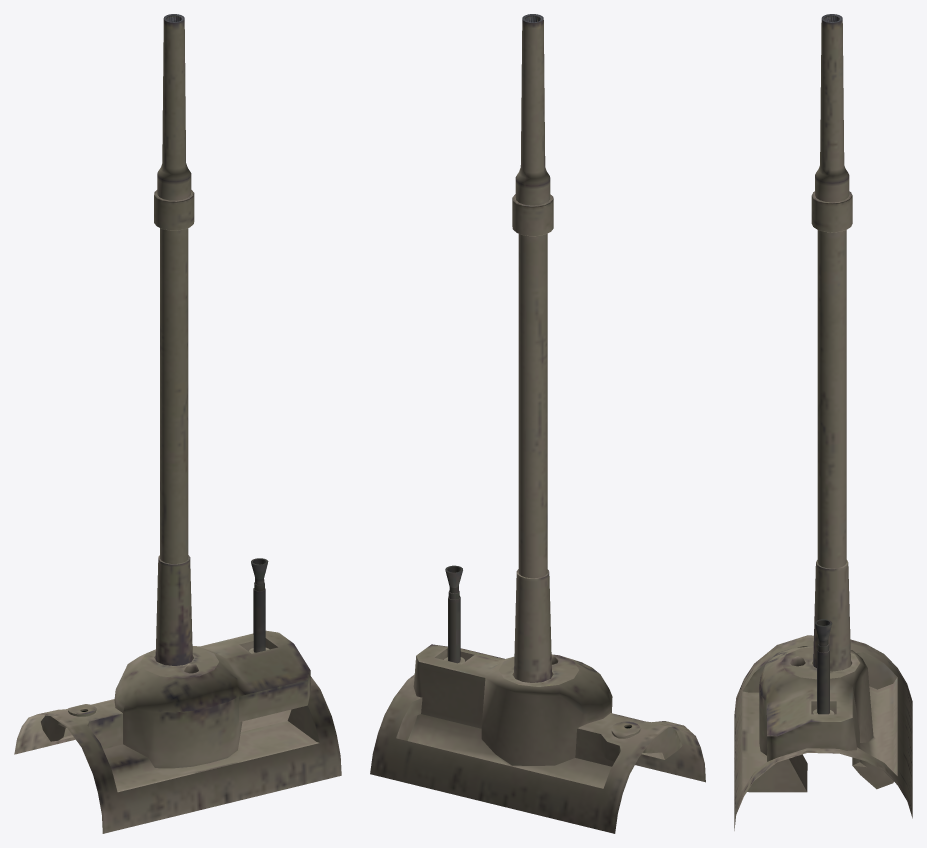
File: Gun_06.glb
3 renders of one model, left to right at view 1: azimuth 30°, elevation 25°; view 2: azimuth 150°, elevation 25°; view 3: azimuth 270°, elevation 25°, orthographic. The views are drawn at different scales.
Visible parts, largest first — view 1: set_0_group_0; view 2: set_0_group_0; view 3: set_0_group_0.
Part boxes in pixels (box(x1,y1,x2,y2)): set_0_group_0: box(14, 14, 341, 833); set_0_group_0: box(370, 14, 705, 833); set_0_group_0: box(734, 14, 912, 830).
Size of the model in its own units: 0.784 by 2.35 by 0.5032.
Materials: 1 (1 with a texture image).
